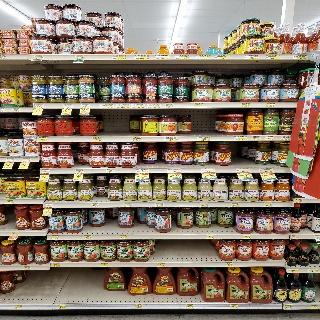All PRICE TAGS: (293, 54, 308, 59), (197, 136, 211, 141), (100, 103, 114, 108), (116, 103, 130, 108), (147, 103, 161, 108), (132, 103, 145, 108), (243, 55, 259, 59), (307, 268, 319, 273), (175, 55, 190, 59), (215, 55, 230, 59), (259, 168, 273, 172), (201, 168, 215, 172), (164, 137, 178, 141), (112, 55, 126, 59), (135, 55, 149, 59), (155, 55, 169, 59), (196, 55, 210, 59), (266, 55, 280, 59), (237, 168, 250, 172), (168, 168, 181, 172), (136, 168, 149, 172), (234, 136, 247, 140), (289, 268, 299, 273), (241, 102, 251, 107), (100, 262, 109, 267), (242, 234, 251, 239), (205, 234, 214, 239), (155, 202, 164, 207), (106, 168, 115, 173), (5, 199, 14, 204), (81, 103, 90, 108), (165, 103, 174, 108), (194, 103, 203, 108), (266, 102, 275, 107), (132, 136, 141, 141), (58, 304, 66, 309), (82, 235, 92, 239), (49, 235, 59, 239), (231, 202, 239, 207), (123, 202, 131, 207), (135, 304, 143, 309), (63, 104, 73, 108), (185, 304, 194, 308), (224, 262, 233, 266), (51, 263, 60, 267), (118, 235, 127, 239), (263, 202, 272, 206), (200, 202, 209, 206), (44, 203, 53, 207), (75, 169, 84, 173), (41, 169, 50, 173), (265, 136, 274, 140), (252, 136, 261, 140), (291, 235, 300, 239), (22, 266, 31, 270), (6, 158, 15, 162), (22, 158, 31, 162), (12, 108, 21, 112), (34, 55, 43, 59), (75, 55, 84, 59), (34, 104, 43, 108), (38, 137, 47, 141), (92, 137, 101, 141), (0, 55, 7, 60), (230, 304, 238, 308), (157, 262, 165, 266), (149, 235, 157, 239), (91, 203, 99, 207), (311, 305, 319, 309), (284, 305, 292, 309), (14, 305, 22, 309), (11, 232, 19, 236), (282, 136, 289, 140), (295, 199, 302, 203), (314, 235, 320, 239), (0, 108, 5, 112)
